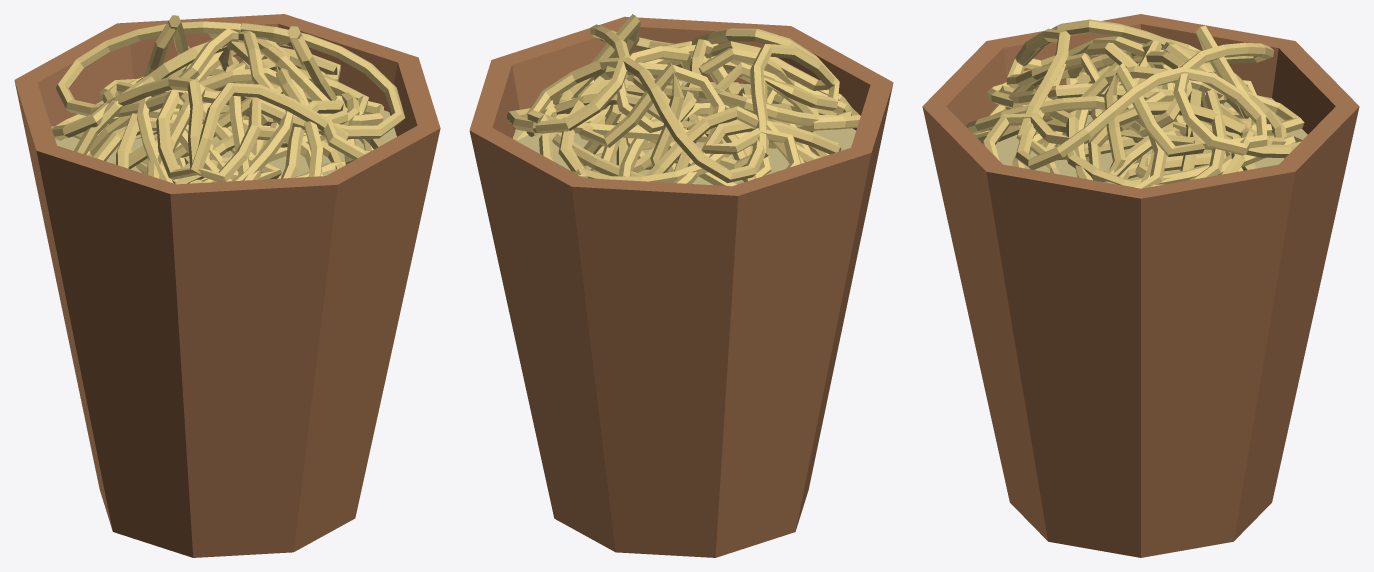
Rendered from NoodleCup.fbx.
3 views of the same model, side by side, from view 1: azimuth 30°, elevation 25°; view 2: azimuth 150°, elevation 25°; view 3: azimuth 270°, elevation 25° (orthographic).
Visible parts, largest first — view 1: Spaghetti Cup; view 2: Spaghetti Cup; view 3: Spaghetti Cup.
Part boxes in pixels (<box>): Spaghetti Cup: <box>14,14,440,557</box>; Spaghetti Cup: <box>469,14,893,557</box>; Spaghetti Cup: <box>922,14,1359,557</box>.
Bounding box in the file's own units: 200 × 236 × 200.
